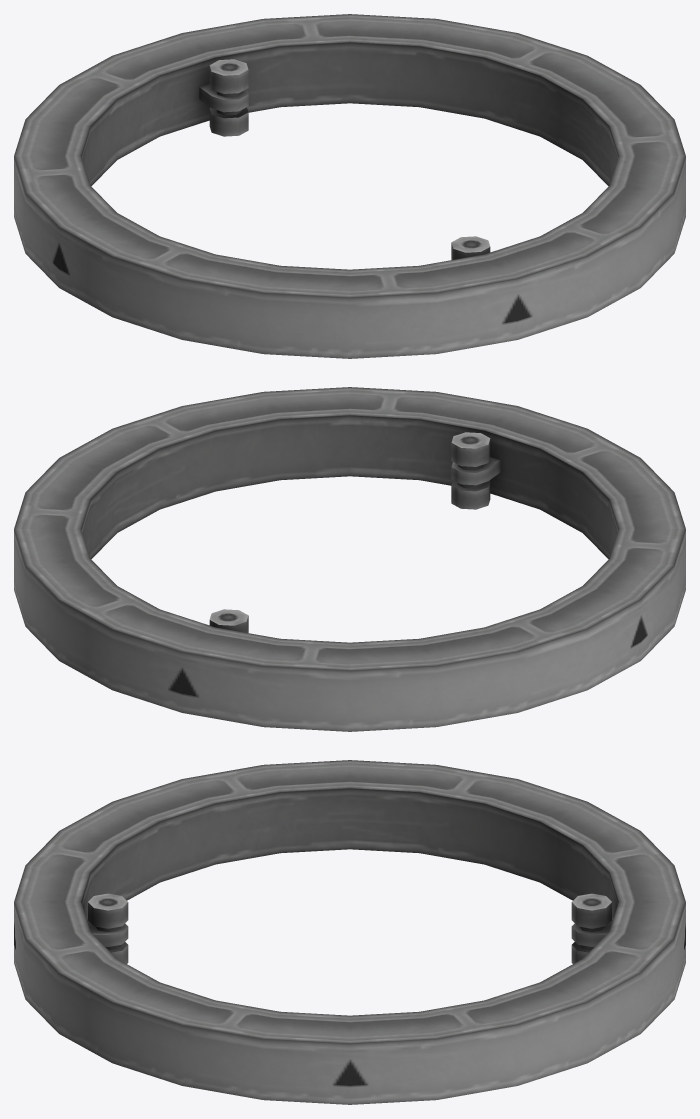
File: castor_decoupler_s1_1.obj
The picture shows the model from 3 angles, top to bottom: view 1: azimuth 30°, elevation 25°; view 2: azimuth 150°, elevation 25°; view 3: azimuth 270°, elevation 25°; orthographic projection.
Parts seen in each view (by area): view 1: mesh1; view 2: mesh1; view 3: mesh1.
Boxes of the visible parts, x1,y1,x2,y2 form: mesh1: (14,14,685,358); mesh1: (14,387,685,731); mesh1: (14,760,685,1104).
Size of the model in its own units: 1.25 by 0.125 by 1.25.
Materials: 1 (1 with a texture image).
